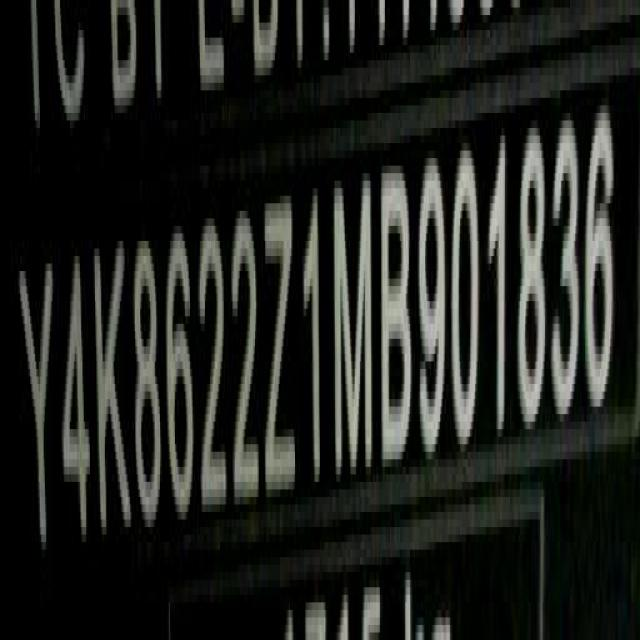0: (452, 122, 484, 460)
1: (486, 106, 512, 455), (301, 178, 326, 504)
2: (230, 196, 261, 522), (200, 210, 229, 530)
3: (554, 93, 584, 431)
4: (60, 246, 90, 560)
6: (585, 75, 623, 417), (163, 229, 198, 541)
8: (517, 100, 549, 442), (135, 233, 163, 538)
9: (418, 134, 449, 466)
B: (380, 142, 415, 476)
K: (94, 237, 133, 554)
M: (332, 159, 377, 488)
Y: (18, 259, 54, 566)
Z: (264, 193, 298, 497)
